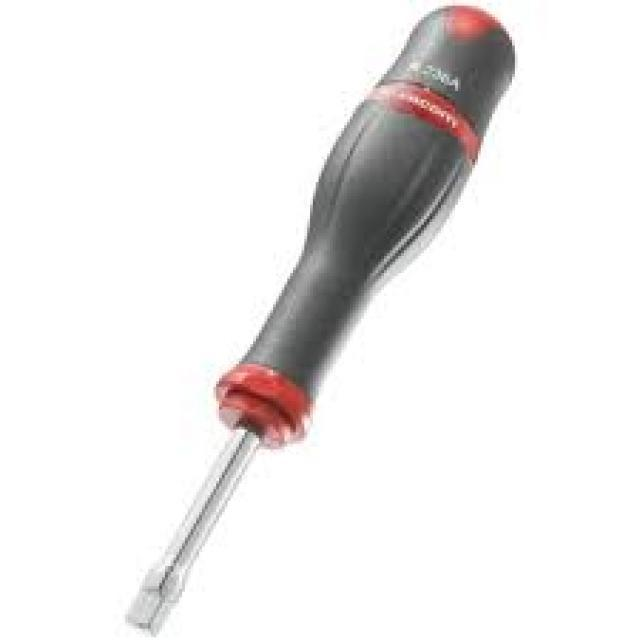screwdriver: (120, 3, 518, 640)
